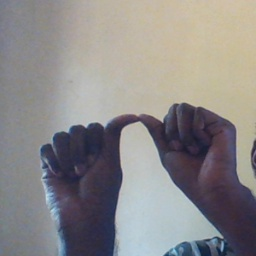A: (33, 100, 242, 233)
